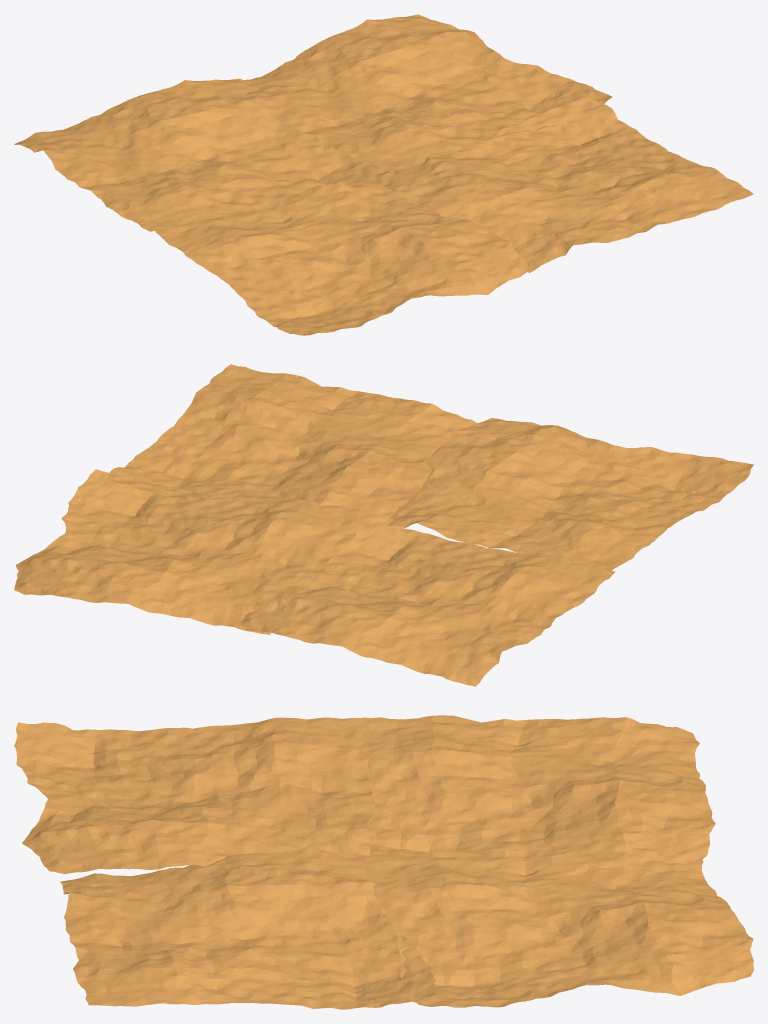
Rendered from Desert_Terrain_1.glb.
3 views of the same model, one above another, from view 1: azimuth 30°, elevation 25°; view 2: azimuth 150°, elevation 25°; view 3: azimuth 270°, elevation 25° (orthographic). The views are drawn at different scales.
Parts seen in each view (by area): view 1: Environment_1.002, Environment_1.004, Environment_1.003, Environment_1; view 2: Environment_1.003, Environment_1.004, Environment_1.002, Environment_1; view 3: Environment_1.003, Environment_1.004, Environment_1.002, Environment_1.
Part boxes in pixels (<box>): Environment_1.002: <box>152,181,530,335</box>; Environment_1.004: <box>371,96,753,272</box>; Environment_1.003: <box>243,14,612,171</box>; Environment_1: <box>14,78,398,231</box>; Environment_1.003: <box>14,469,369,634</box>; Environment_1.004: <box>107,364,476,525</box>; Environment_1.002: <box>387,418,753,570</box>; Environment_1: <box>237,518,615,686</box>; Environment_1.003: <box>364,840,753,1007</box>; Environment_1.004: <box>60,846,436,1009</box>; Environment_1.002: <box>14,717,374,874</box>; Environment_1: <box>354,715,715,867</box>.
Size of the model in its own units: 41.19 by 1.8 by 44.
